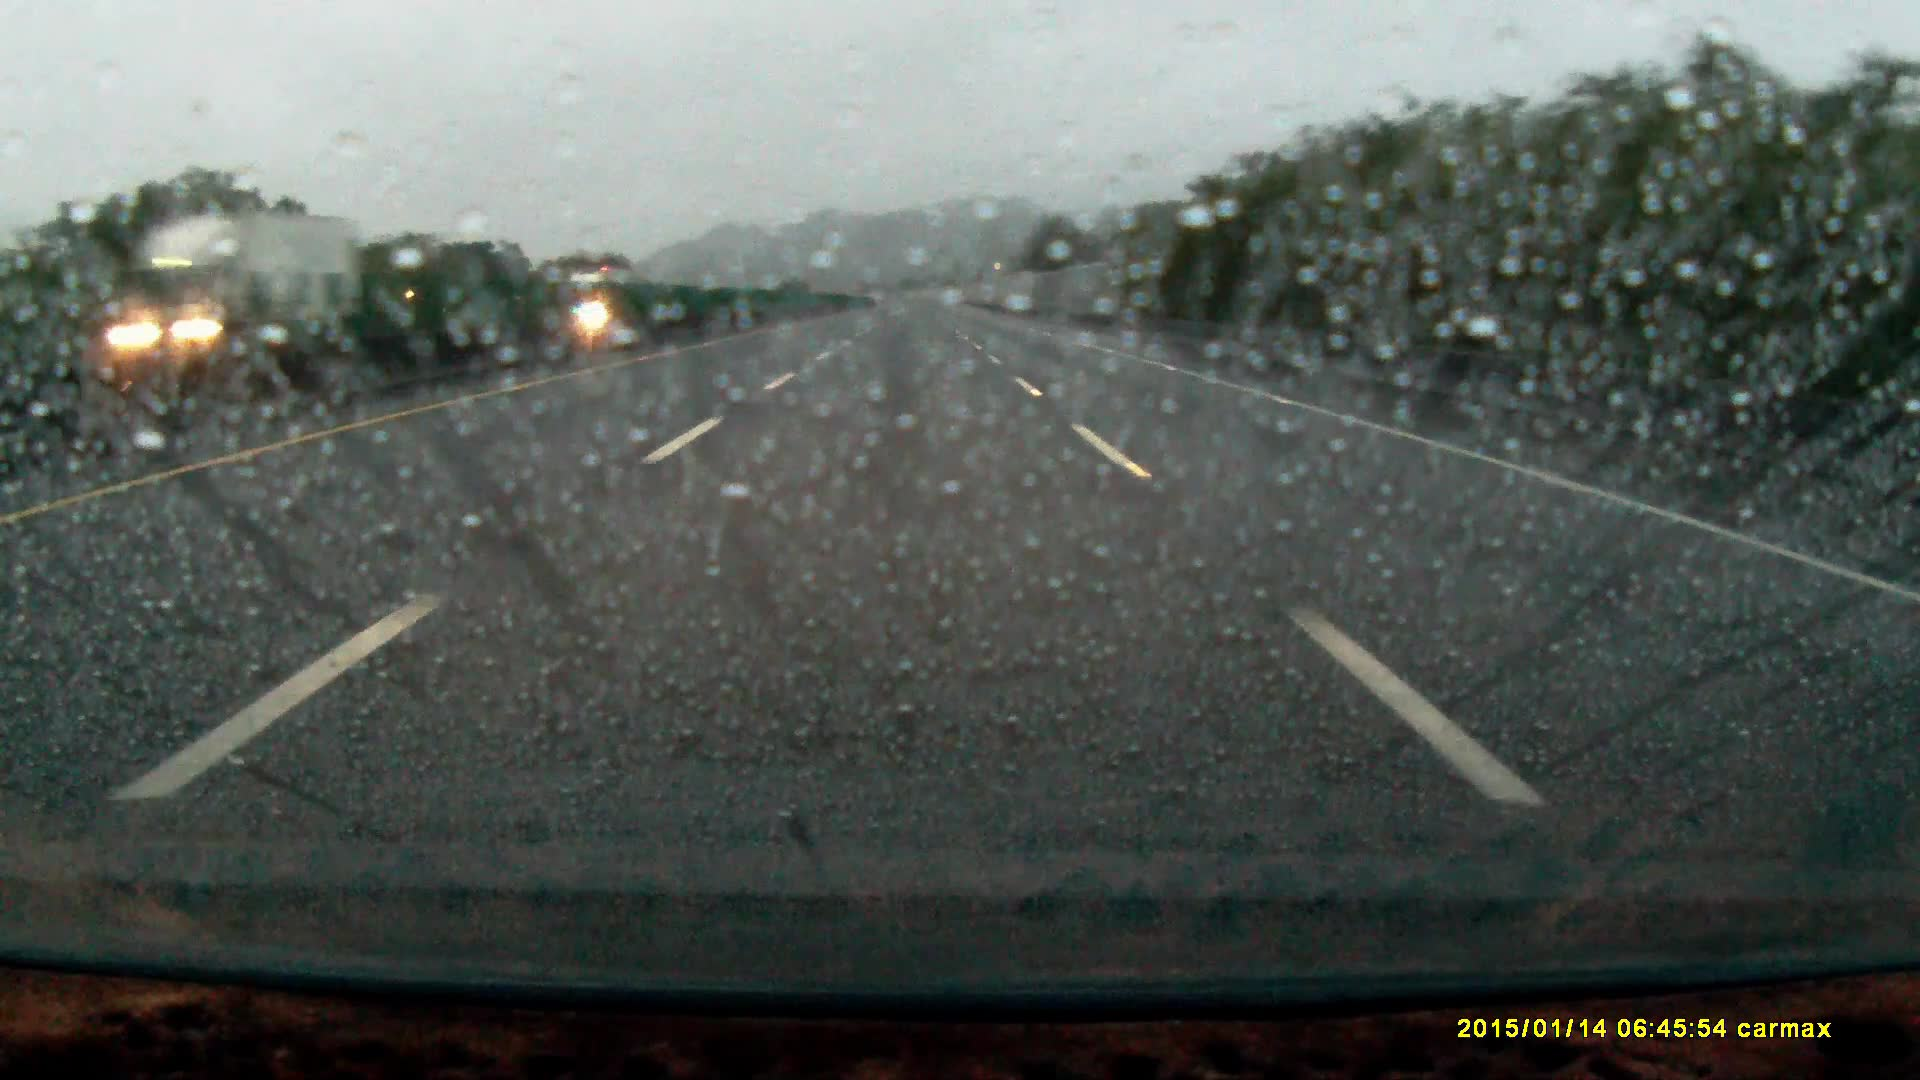vehicle: (112, 208, 359, 385), (563, 266, 633, 324)
